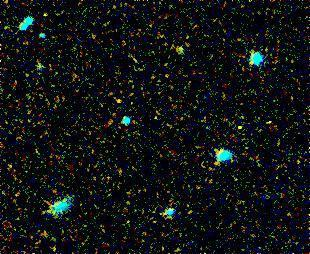star: (102, 92, 132, 122)
